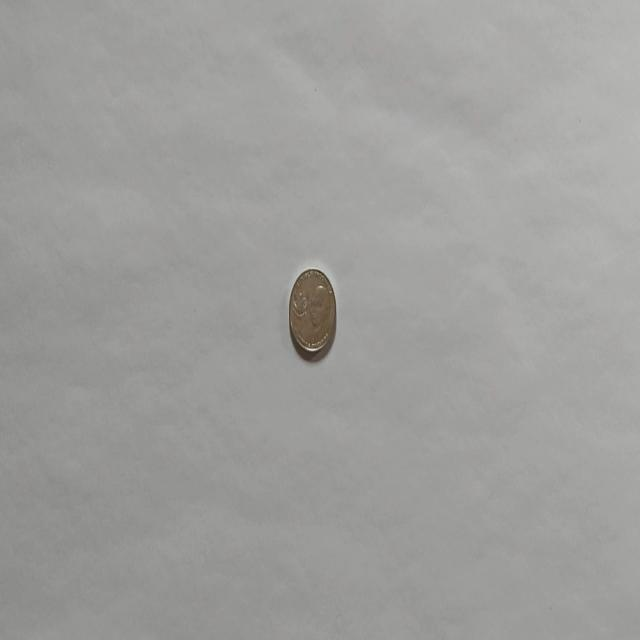lima ratus rupiah: (287, 266, 337, 358)
